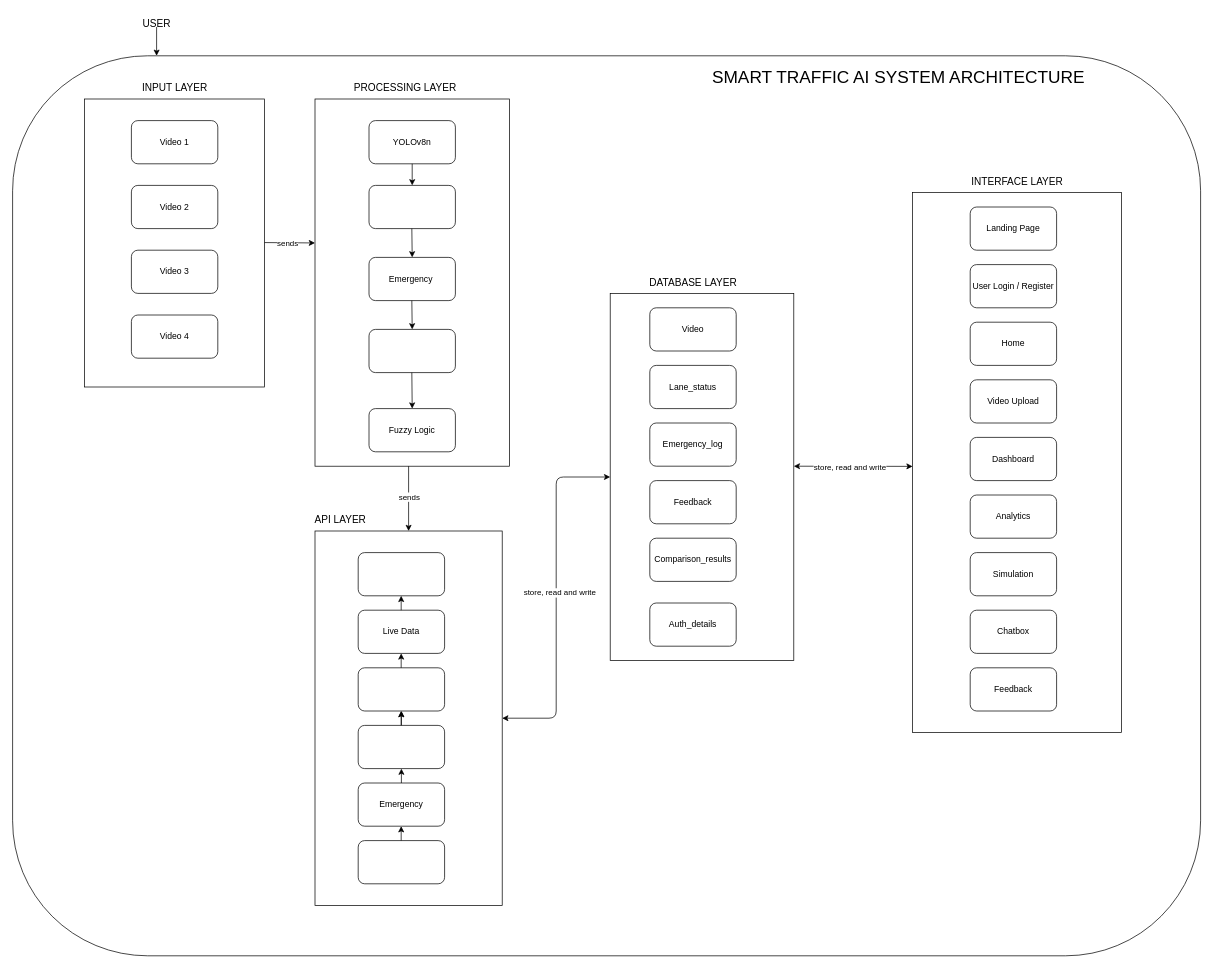
Some shapes in this 1213 by 968 pixel diagram are drawn without their labels. The shapes that lost their labels are listed below. From the top down, each one's centre as x and y in pixels, then its label:
(411,207): Deepsort Tracker
(411,351): Random Forest Model
(401,574): Flask App (Main)
(401,689): Streaming
(401,747): Results
(401,862): Control
